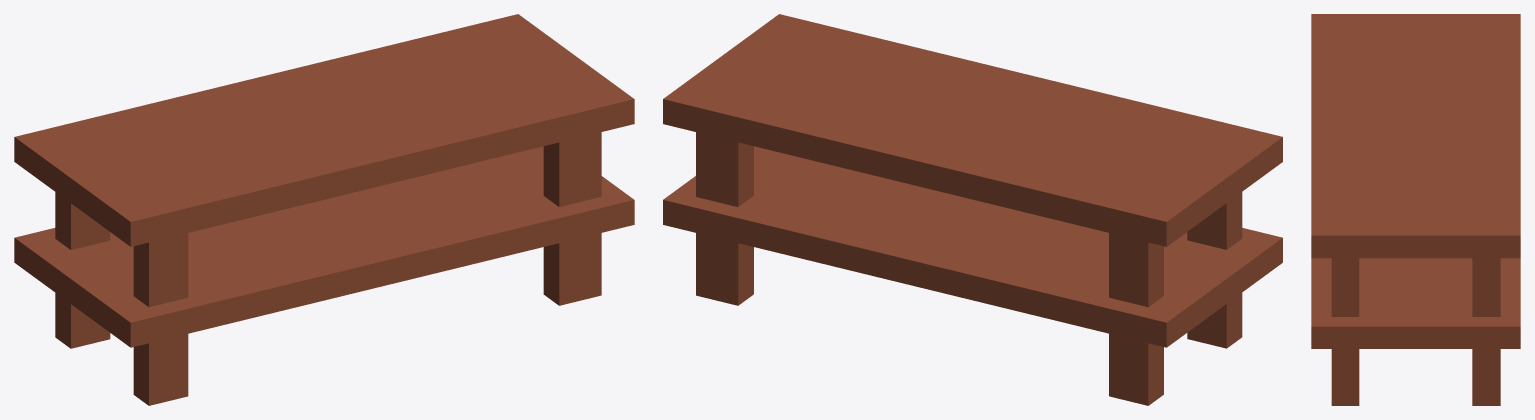
Rendered from TVDesk_Text.fbx.
3 views of the same model, side by side, from view 1: azimuth 30°, elevation 25°; view 2: azimuth 150°, elevation 25°; view 3: azimuth 270°, elevation 25° (orthographic). The views are drawn at different scales.
Parts seen in each view (by area): view 1: MeubleTV; view 2: MeubleTV; view 3: MeubleTV.
Part boxes in pixels (bbox=[...]): MeubleTV: bbox=[14, 14, 634, 405]; MeubleTV: bbox=[663, 14, 1282, 405]; MeubleTV: bbox=[1311, 14, 1520, 405].
Bounding box in the file's own units: 183 × 69.15 × 73.04.
Materials: 1 (1 with a texture image).
